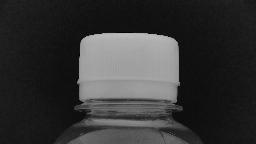Good Cap: (72, 29, 186, 117)
